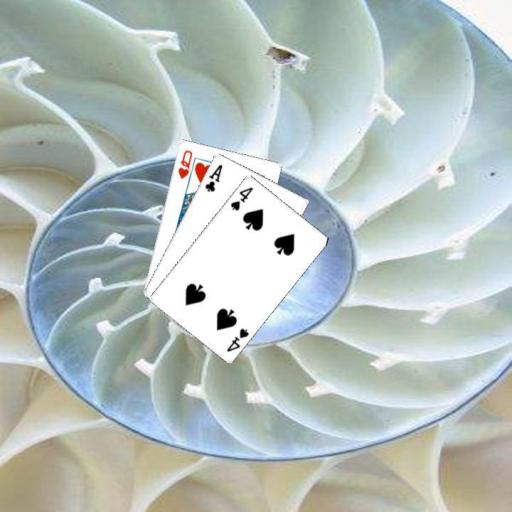4S: (228, 183, 255, 212), (224, 325, 251, 353)
AC: (201, 161, 224, 193)
QH: (175, 146, 193, 180)
